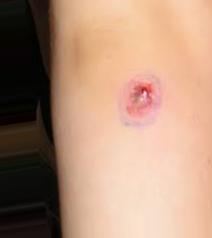Spider: (124, 75, 163, 129)
